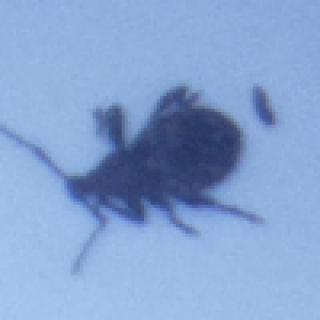bvw: (8, 81, 268, 278)
